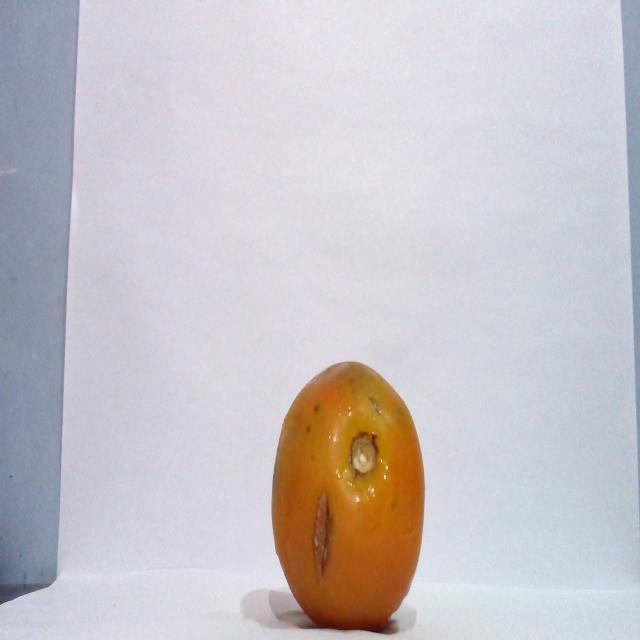Red: (269, 359, 426, 630)
